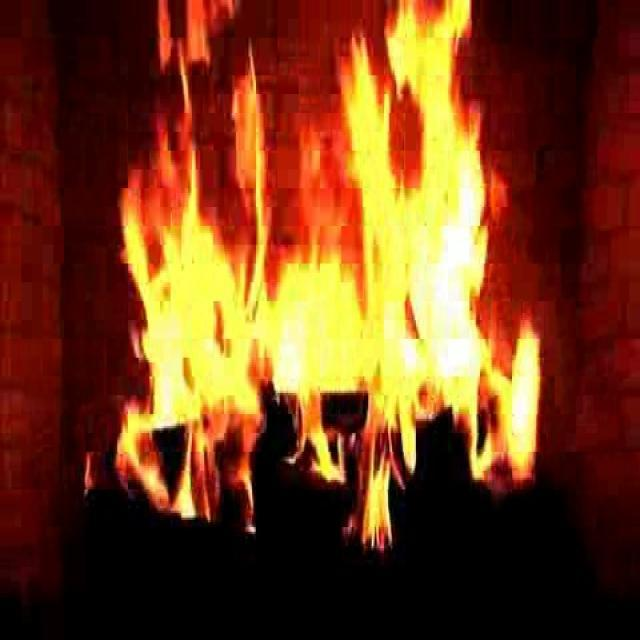Fire: (126, 0, 534, 525)
